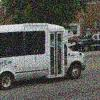buses: (0, 22, 88, 89)
